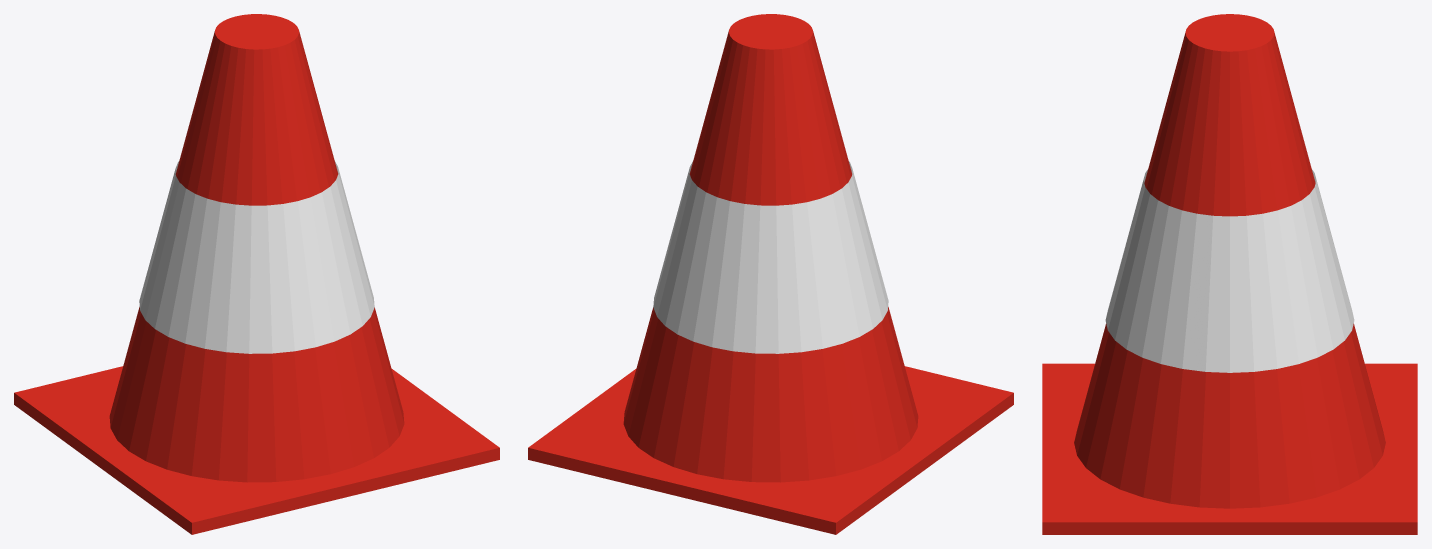
The model's file is poin.fbx.
The picture shows the model from 3 angles, left to right: view 1: azimuth 30°, elevation 25°; view 2: azimuth 150°, elevation 25°; view 3: azimuth 270°, elevation 25°; orthographic projection. The views are drawn at different scales.
Parts seen in each view (by area): view 1: Cylinder, Cylinder.001, Cube; view 2: Cylinder, Cylinder.001, Cube; view 3: Cylinder, Cylinder.001, Cube.
Boxes of the visible parts, left/top/right/bottom form: Cylinder: left=109, top=14, right=404, bottom=482; Cylinder.001: left=139, top=161, right=374, bottom=353; Cube: left=14, top=366, right=499, bottom=534; Cylinder: left=623, top=14, right=918, bottom=482; Cylinder.001: left=653, top=161, right=888, bottom=353; Cube: left=528, top=366, right=1013, bottom=534; Cylinder: left=1074, top=14, right=1385, bottom=508; Cylinder.001: left=1105, top=169, right=1354, bottom=372; Cube: left=1042, top=363, right=1417, bottom=534.
Size of the model in its own units: 200 by 249 by 200.
